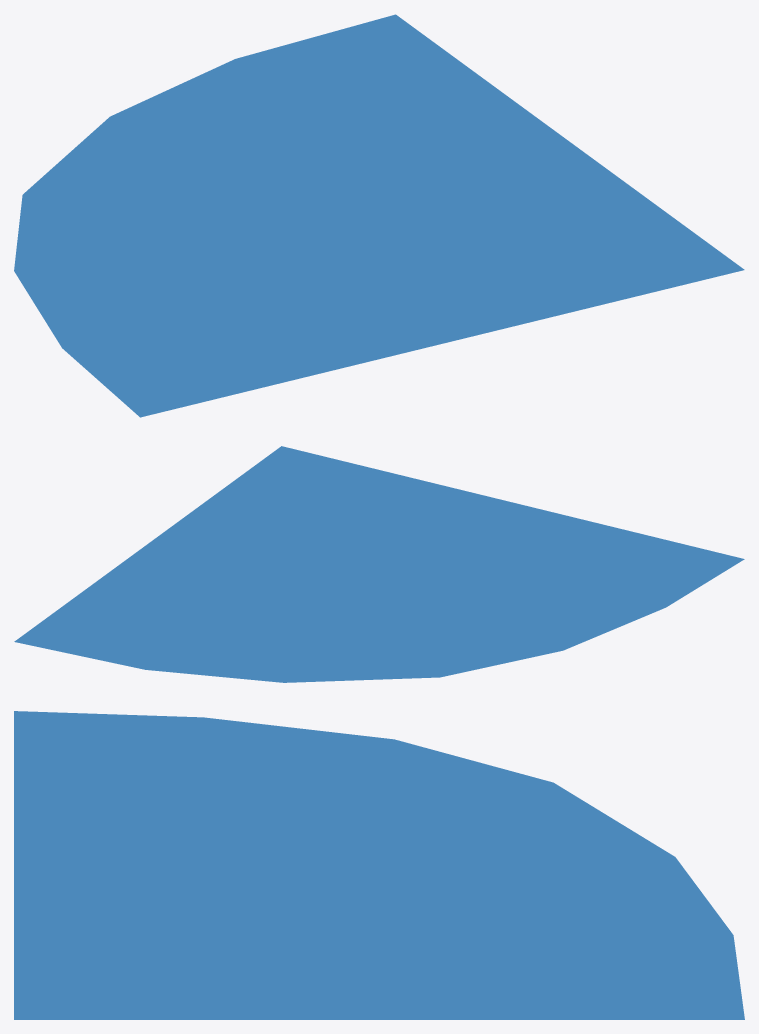
The model's file is Pavement_Cor_A.fbx.
3 renders of one model, top to bottom at view 1: azimuth 30°, elevation 25°; view 2: azimuth 150°, elevation 25°; view 3: azimuth 270°, elevation 25°, orthographic. The views are drawn at different scales.
Parts seen in each view (by area): view 1: Pavement_Cor_A; view 2: Pavement_Cor_A; view 3: Pavement_Cor_A.
Boxes of the visible parts, x1=… form: Pavement_Cor_A: x1=14, y1=14, x2=744, y2=417; Pavement_Cor_A: x1=14, y1=446, x2=744, y2=682; Pavement_Cor_A: x1=14, y1=711, x2=744, y2=1019.
Size of the model in its own units: 900 by 0.000439 by 900.
